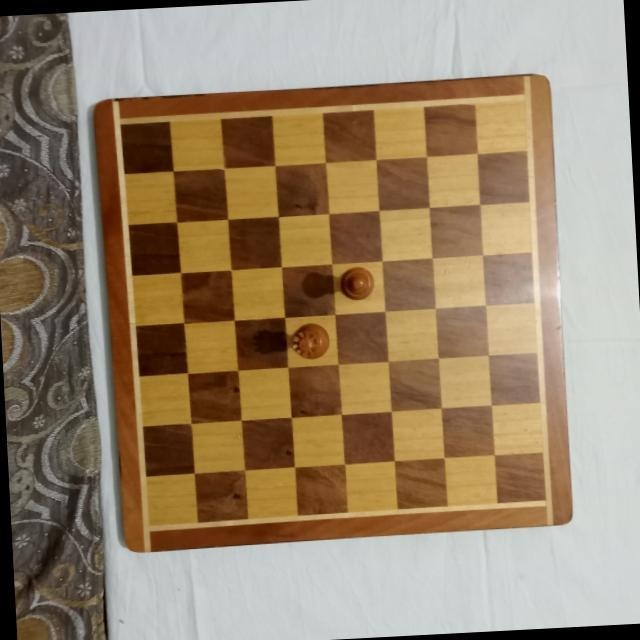white-king: (338, 265, 375, 303)
white-queen: (286, 320, 330, 360)
